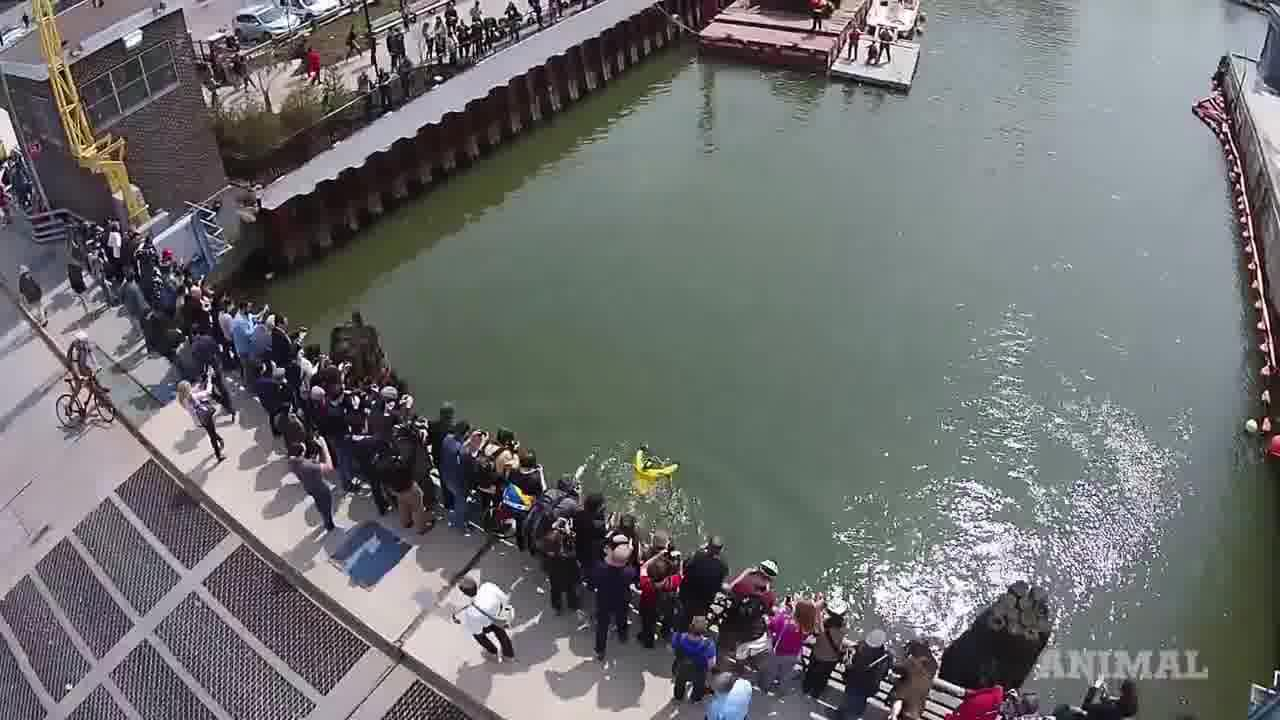swimmer: (621, 434, 686, 490)
